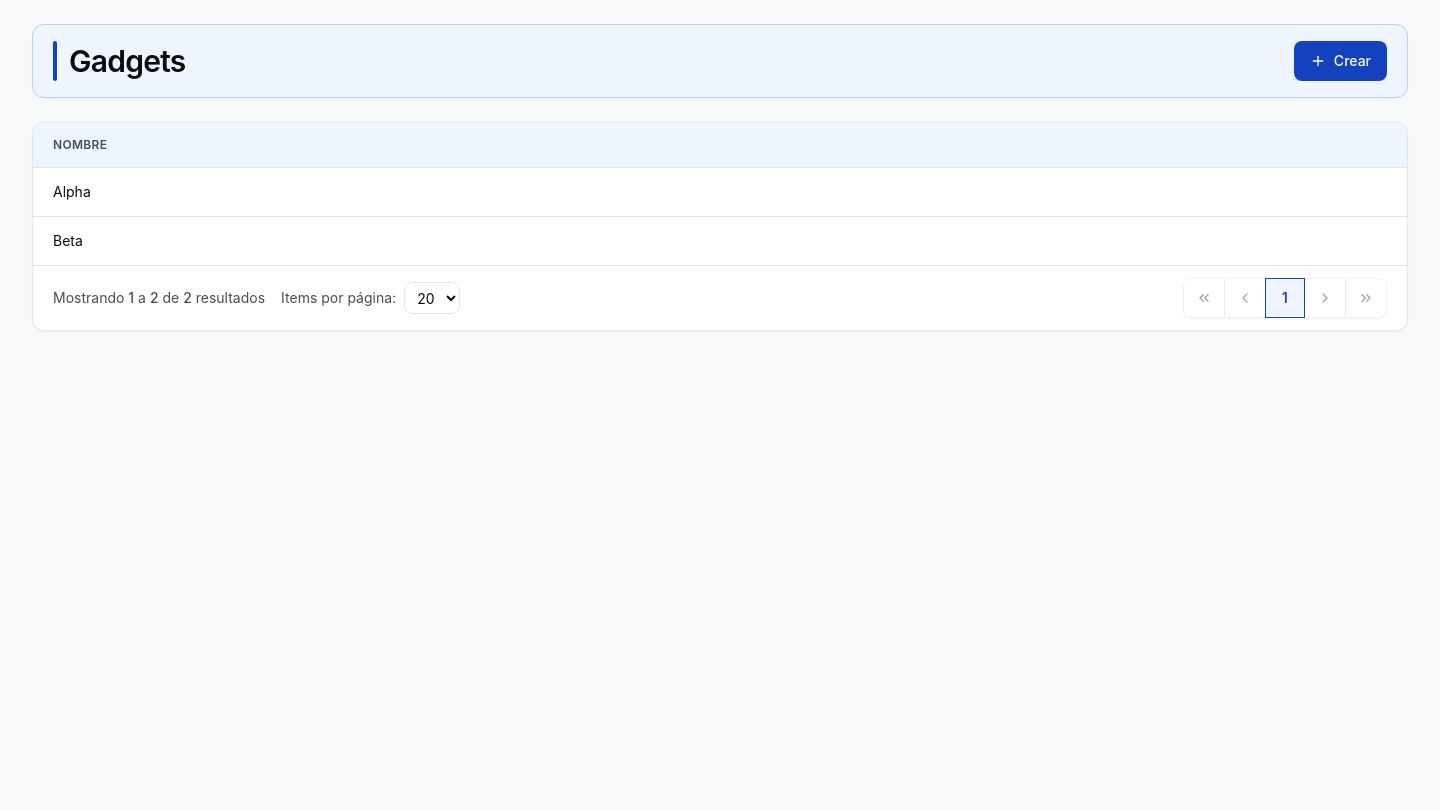
GenericPage (smoke) › crea un item desde el modal y lo agrega a la tabla
This screenshot has width=1440, height=810.
Expected: the text "Alpha" is shown, [33,168,1407,216]
Click the button "Crear" at (1340, 61), box [1294,41,1387,81]
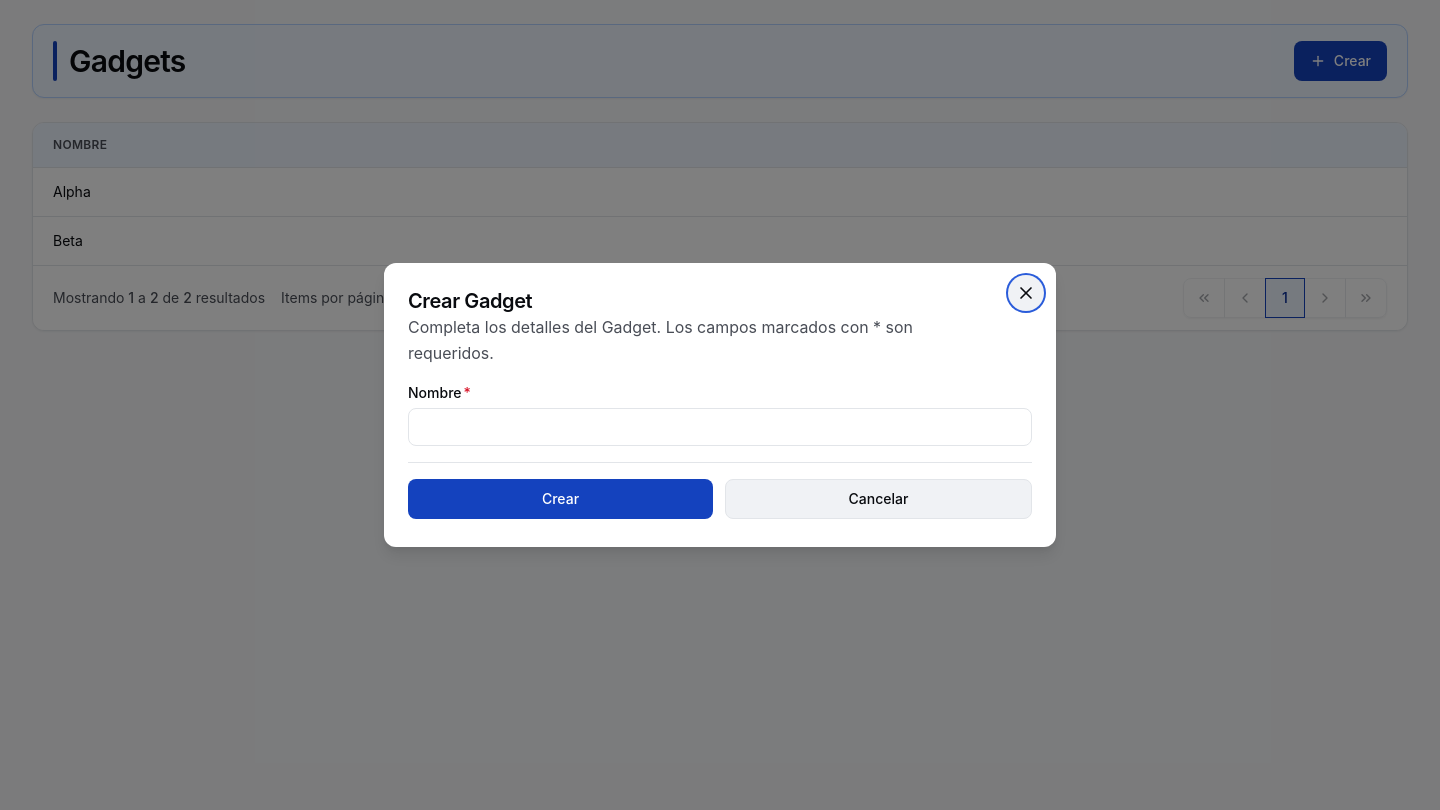
Type "Gamma" into the field labelled "Nombre" at (720, 426), box [408,408,1032,446]
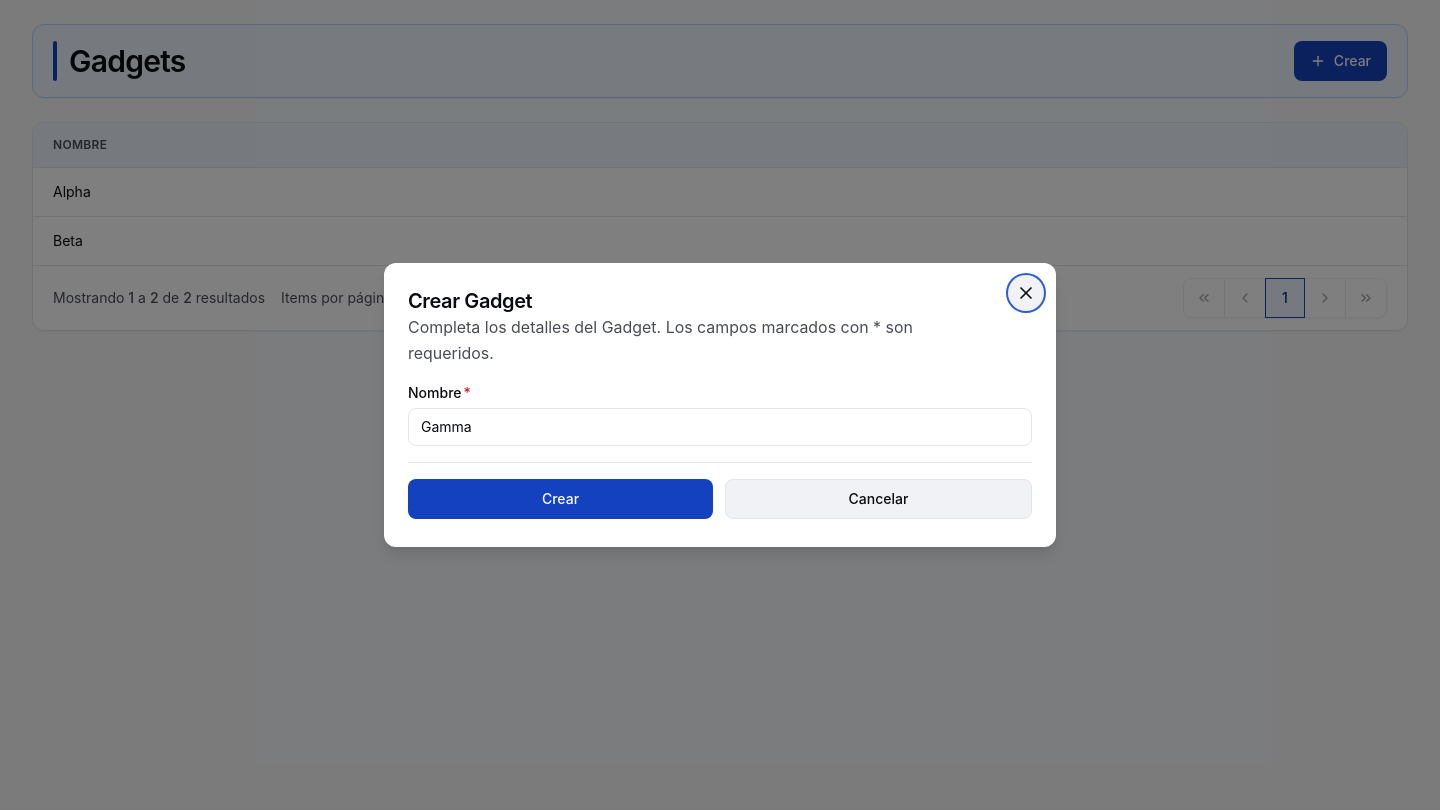
Click the button "Crear" at (560, 498), box [408,478,713,518]
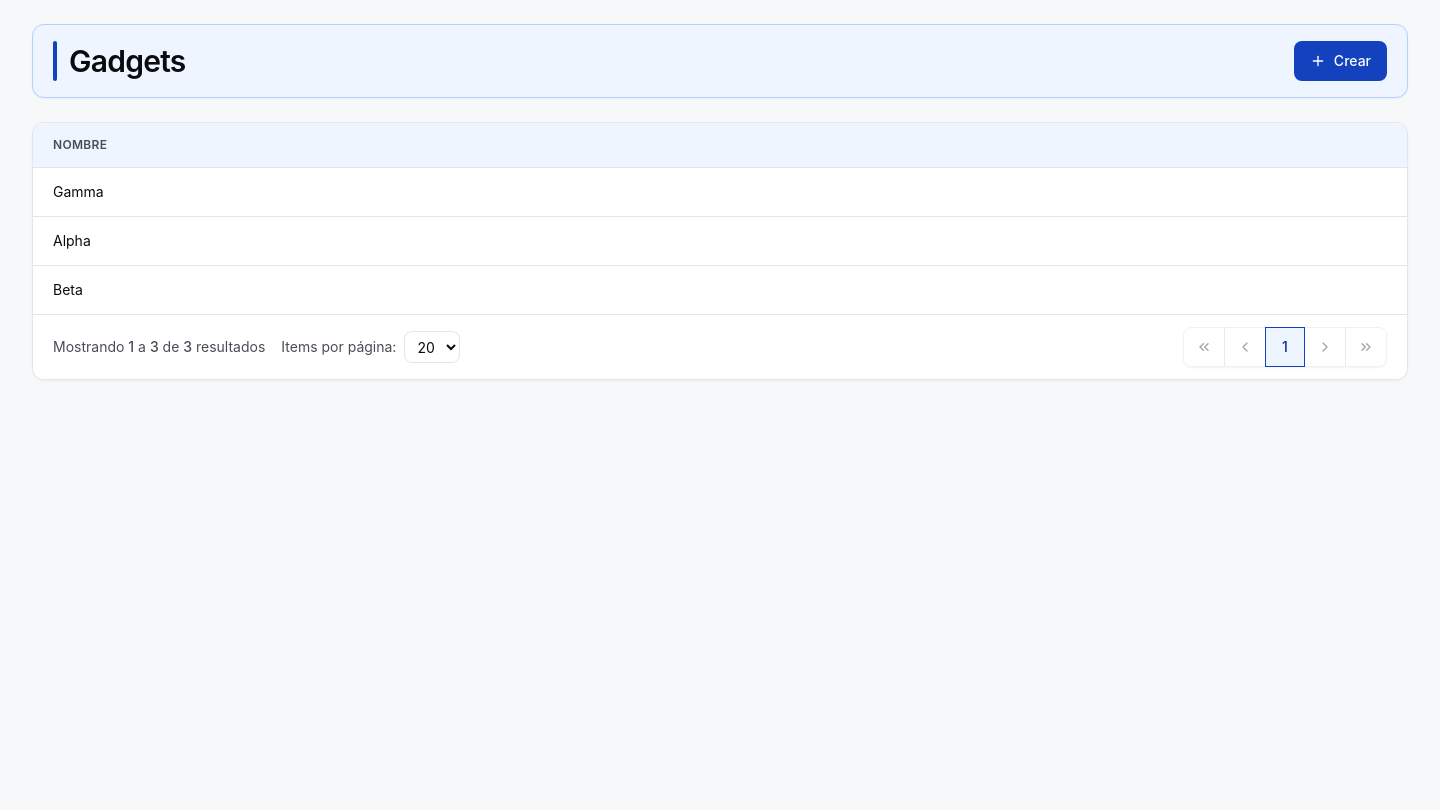
Expected: the dialog is gone
Expected: the text "Gamma" is shown, [33,168,1407,216]
